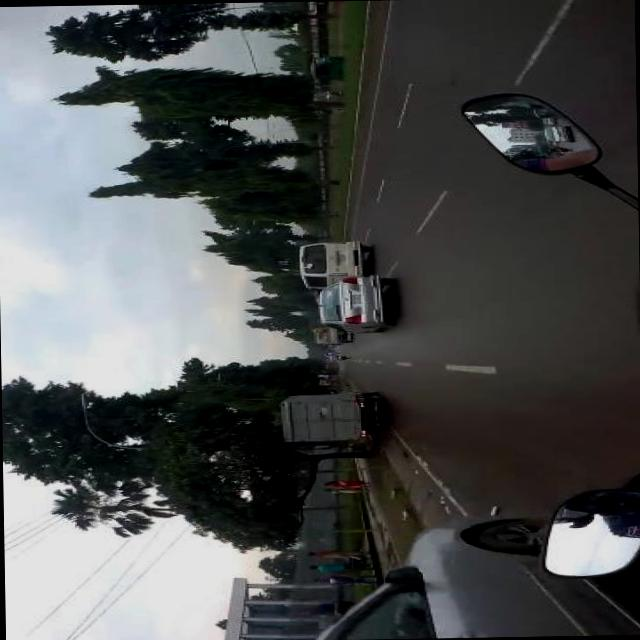car: (314, 272, 398, 335)
motorcycle: (304, 52, 343, 82)
truck: (275, 387, 388, 447), (299, 237, 371, 292)
